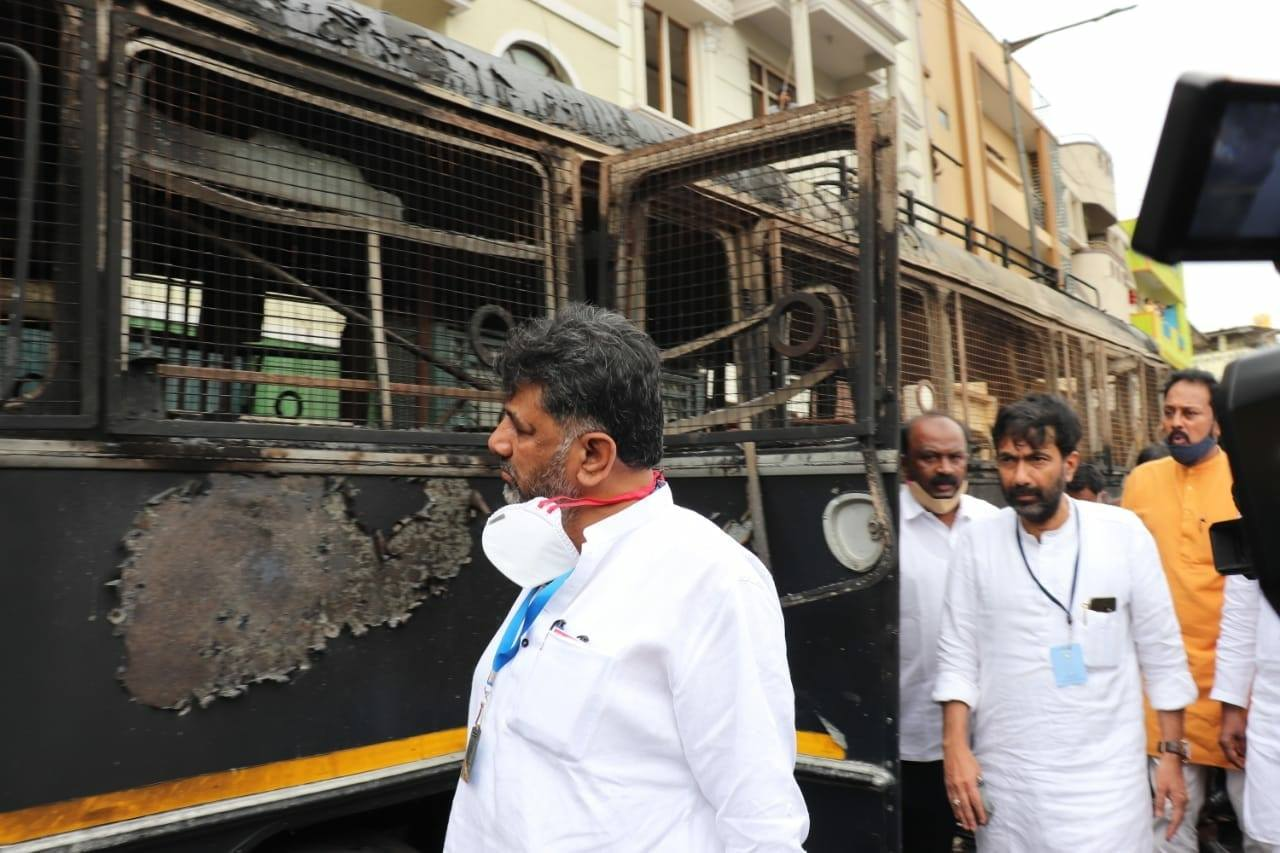mouth: (497, 464, 512, 480), (1015, 492, 1036, 502), (931, 479, 952, 489)
nose: (484, 437, 511, 459), (1010, 475, 1031, 488), (936, 465, 955, 475), (1169, 420, 1183, 430)
